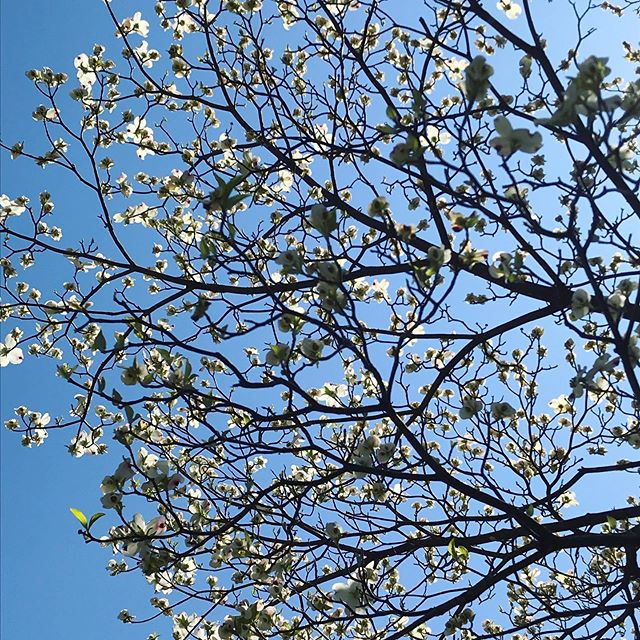tree: (7, 4, 640, 640)
